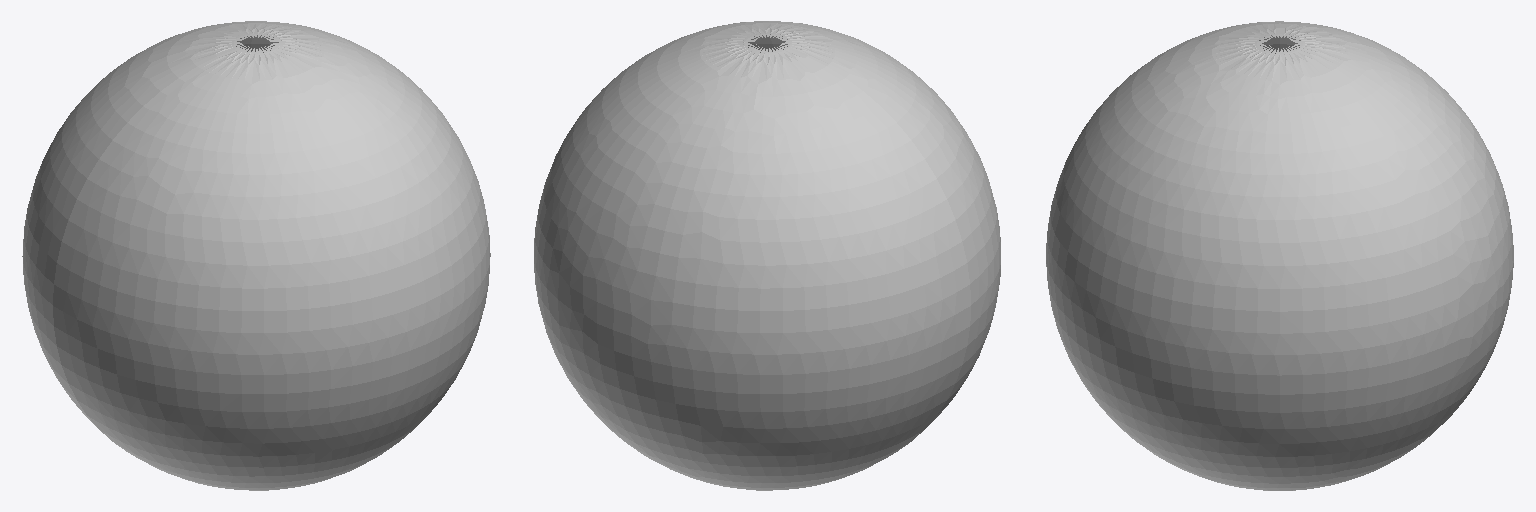
File: mesh_subdiv.obj
The picture shows the model from 3 angles: view 1: azimuth 30°, elevation 25°; view 2: azimuth 150°, elevation 25°; view 3: azimuth 270°, elevation 25°; orthographic projection.
Size of the model in its own units: 1.99 by 1.99 by 1.98.